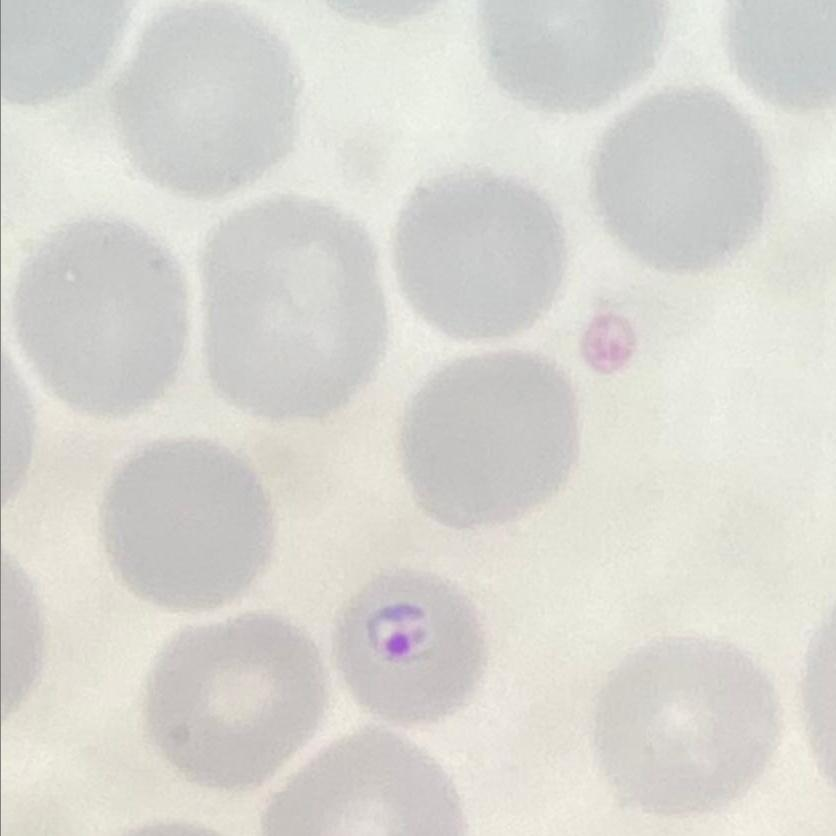Infected: (334, 567, 487, 729)
Uninfected: (210, 197, 389, 426), (596, 635, 789, 825), (112, 7, 301, 200), (590, 87, 771, 280), (146, 609, 322, 795), (400, 349, 577, 531), (16, 223, 183, 410), (398, 173, 573, 347), (106, 439, 271, 603), (262, 735, 461, 836)
